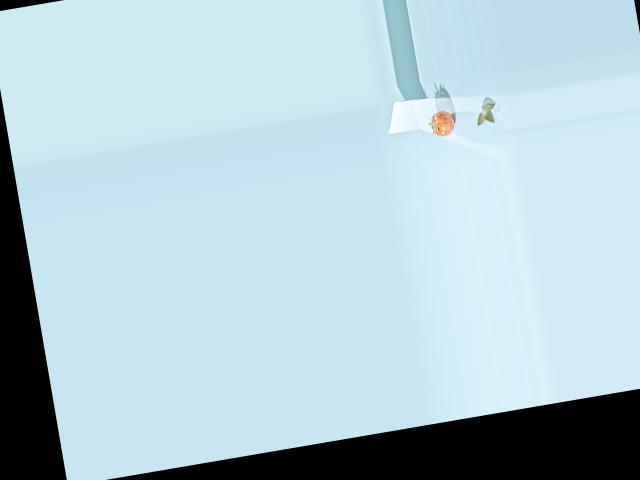tomato: (428, 108, 456, 138)
